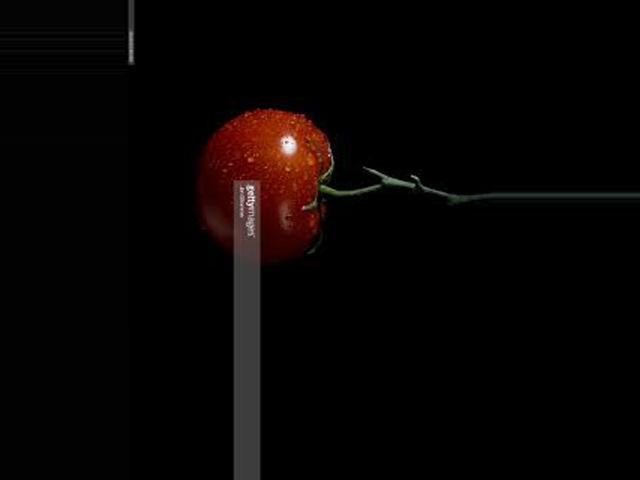tomato: (200, 110, 328, 258)
